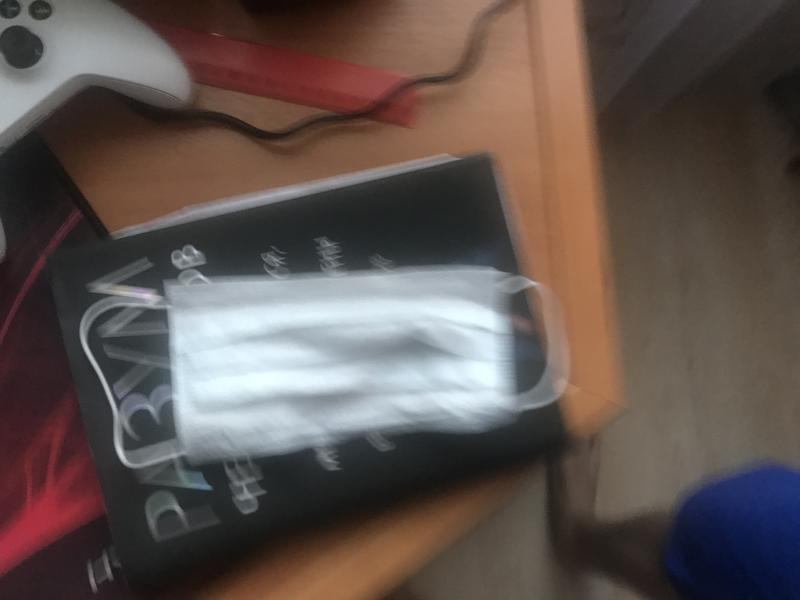medical_mask: (81, 266, 515, 464)
